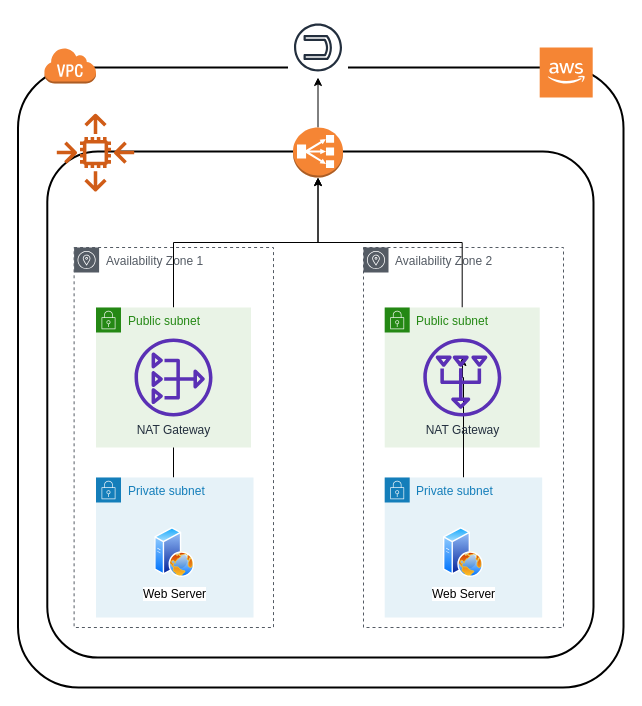
Image size: 642x706. Some labels were removed from this diagram. The box of each missing label's shape, as (x1, y1, x2, y2) in pixels:
Autoscaling: (56, 113, 134, 191)
Internet gateway: (287, 16, 348, 78)
